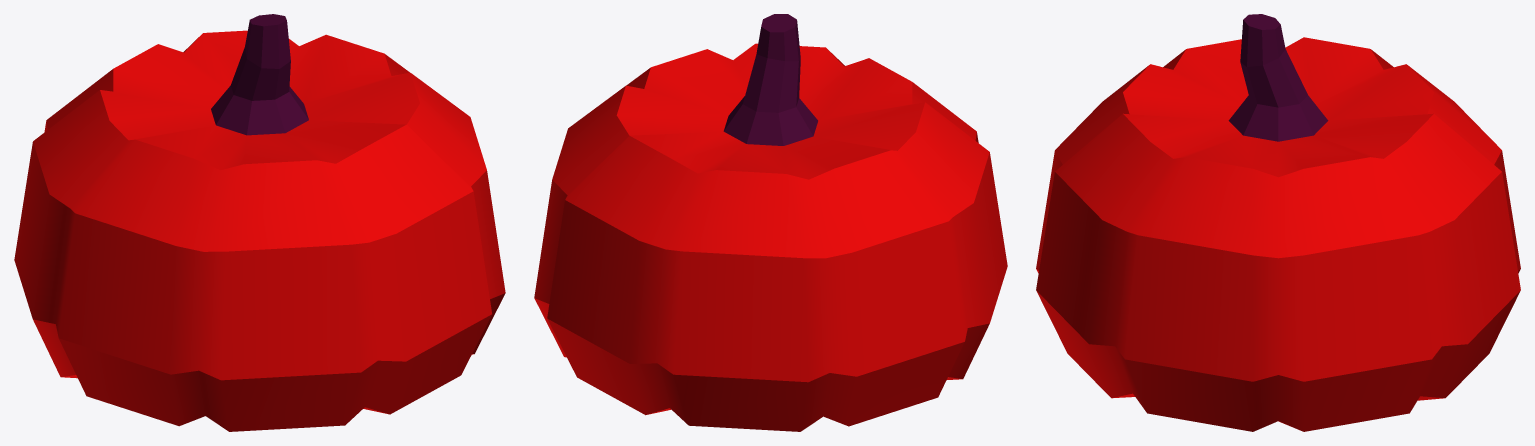
File: Pumpkin_01.fbx
The picture shows the model from 3 angles, left to right: view 1: azimuth 30°, elevation 25°; view 2: azimuth 150°, elevation 25°; view 3: azimuth 270°, elevation 25°; orthographic projection. The views are drawn at different scales.
Visible parts, largest first — view 1: Pumpkin_01; view 2: Pumpkin_01; view 3: Pumpkin_01.
Boxes of the visible parts, x1,y1,x2,y2 form: Pumpkin_01: (14,14,505,431); Pumpkin_01: (534,14,1007,431); Pumpkin_01: (1036,14,1520,431).
Bounding box in the file's own units: 9.73 × 7.6 × 9.73.
